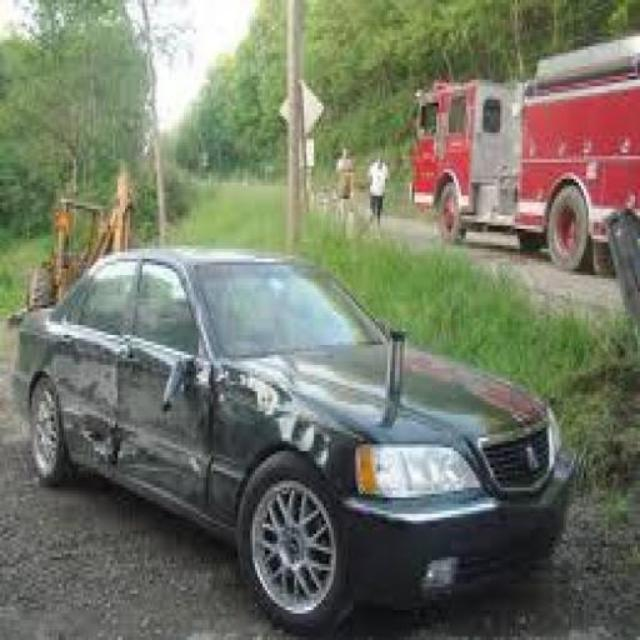crash: (57, 329, 349, 506)
